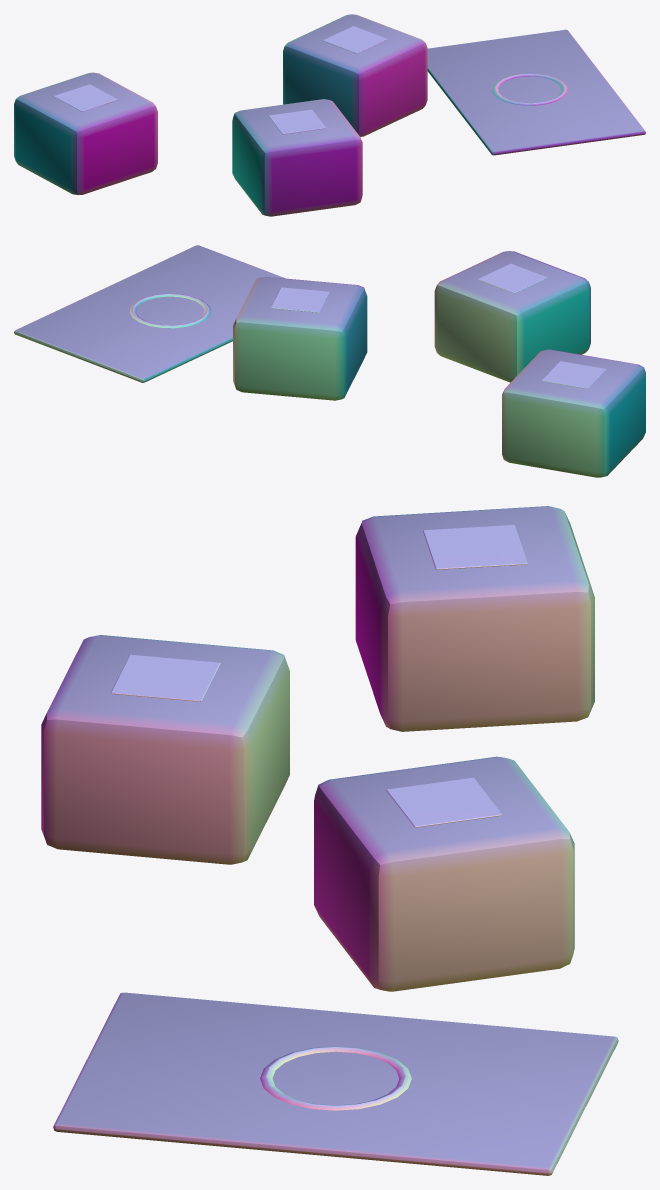
Rendered from env_dress_living_games.glb.
3 renders of one model, top to bottom at view 1: azimuth 30°, elevation 25°; view 2: azimuth 150°, elevation 25°; view 3: azimuth 270°, elevation 25°, orthographic. The views are drawn at different scales.
Parts seen in each view (by area): view 1: env_dress_living_games_mesh; view 2: env_dress_living_games_mesh; view 3: env_dress_living_games_mesh.
Part boxes in pixels (x1,y1,x2,y2): env_dress_living_games_mesh: (14,14,645,216); env_dress_living_games_mesh: (14,245,645,477); env_dress_living_games_mesh: (41,506,618,1175).
Size of the model in its own units: 0.8237 by 0.1015 by 0.3729.
